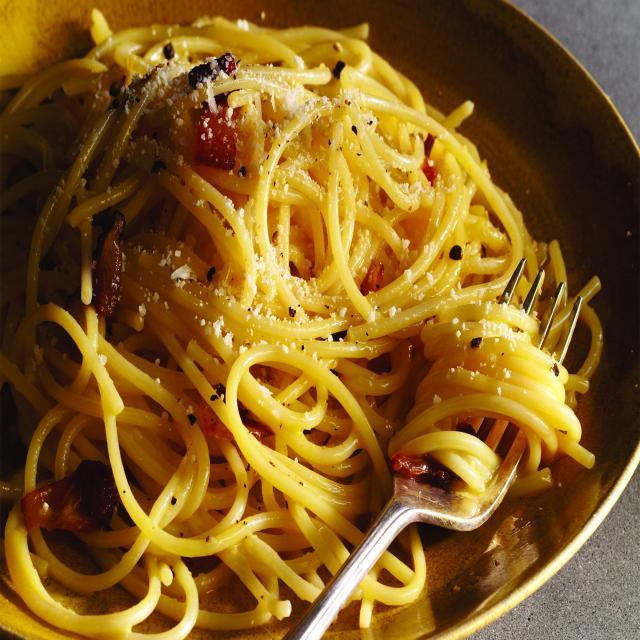Pasta with carbonara sauce: (8, 15, 565, 597)
